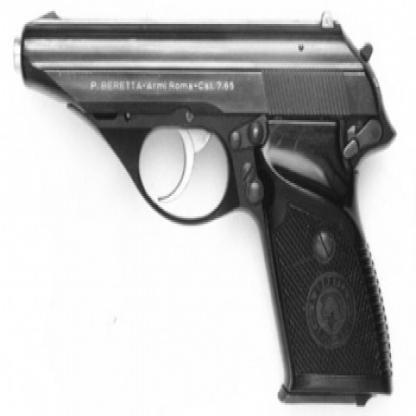Guns: (9, 0, 415, 414)
